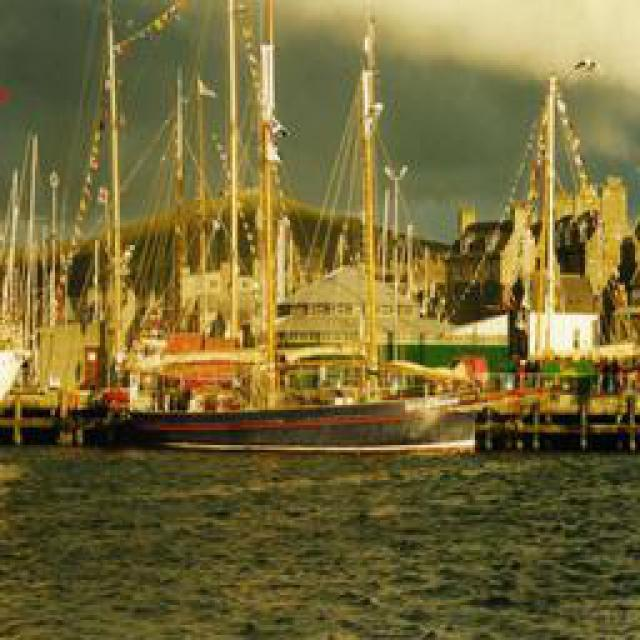Ship: (87, 385, 470, 455)
